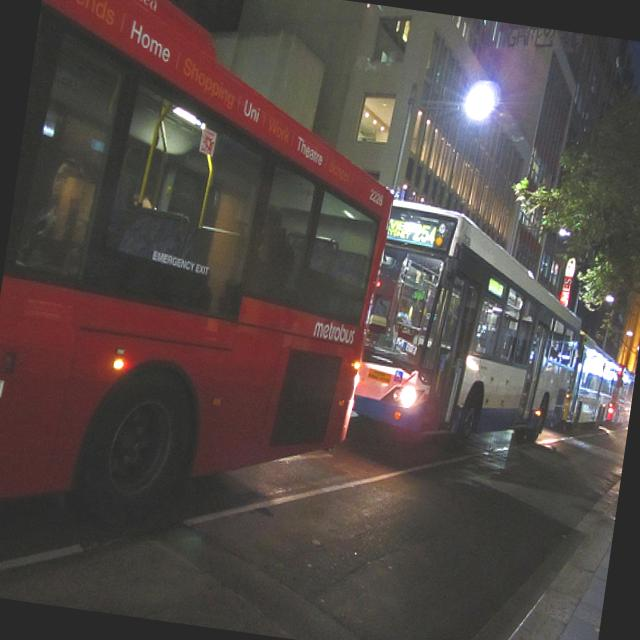Vehicle: (0, 0, 419, 589), (351, 193, 598, 462), (567, 337, 630, 432), (614, 369, 636, 422)
